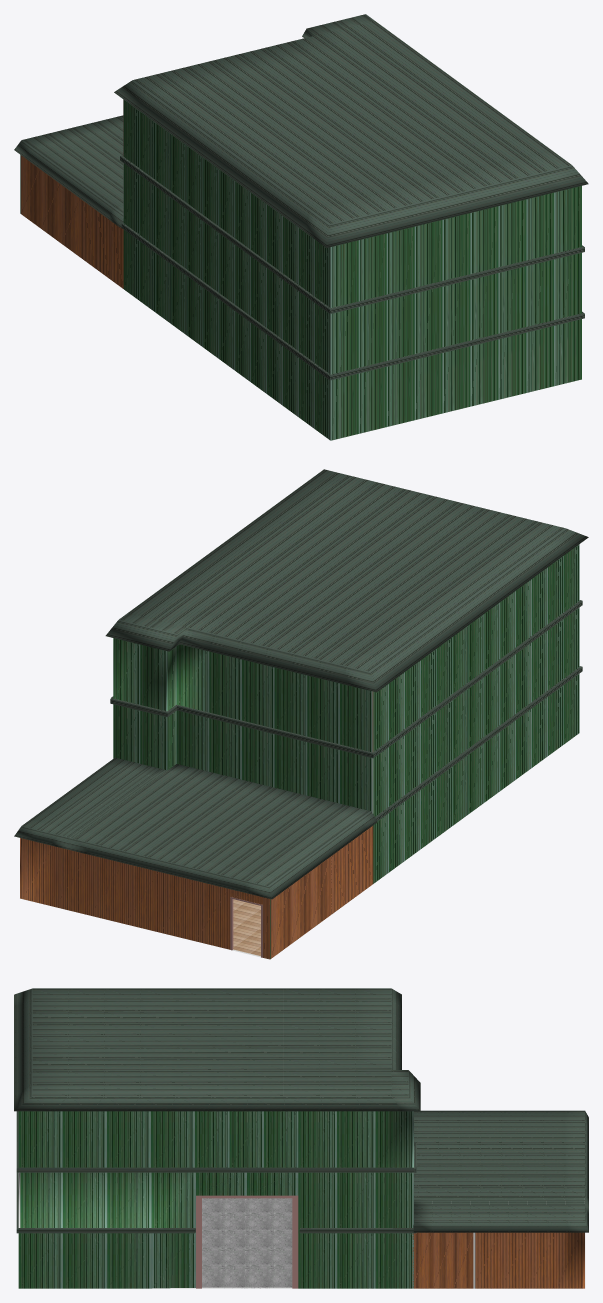
File: PostHuset.glb
3 renders of one model, top to bottom at view 1: azimuth 30°, elevation 25°; view 2: azimuth 150°, elevation 25°; view 3: azimuth 270°, elevation 25°, orthographic. The views are drawn at different scales.
Parts seen in each view (by area): view 1: PostHuset; view 2: PostHuset; view 3: PostHuset.
Boxes of the visible parts, left/top/right/bottom form: PostHuset: left=14, top=14, right=588, bottom=440; PostHuset: left=14, top=469, right=588, bottom=959; PostHuset: left=14, top=988, right=588, bottom=1288.
Bounding box in the file's own units: 12.52 × 9.95 × 26.05.
1 material, 1 textured.
